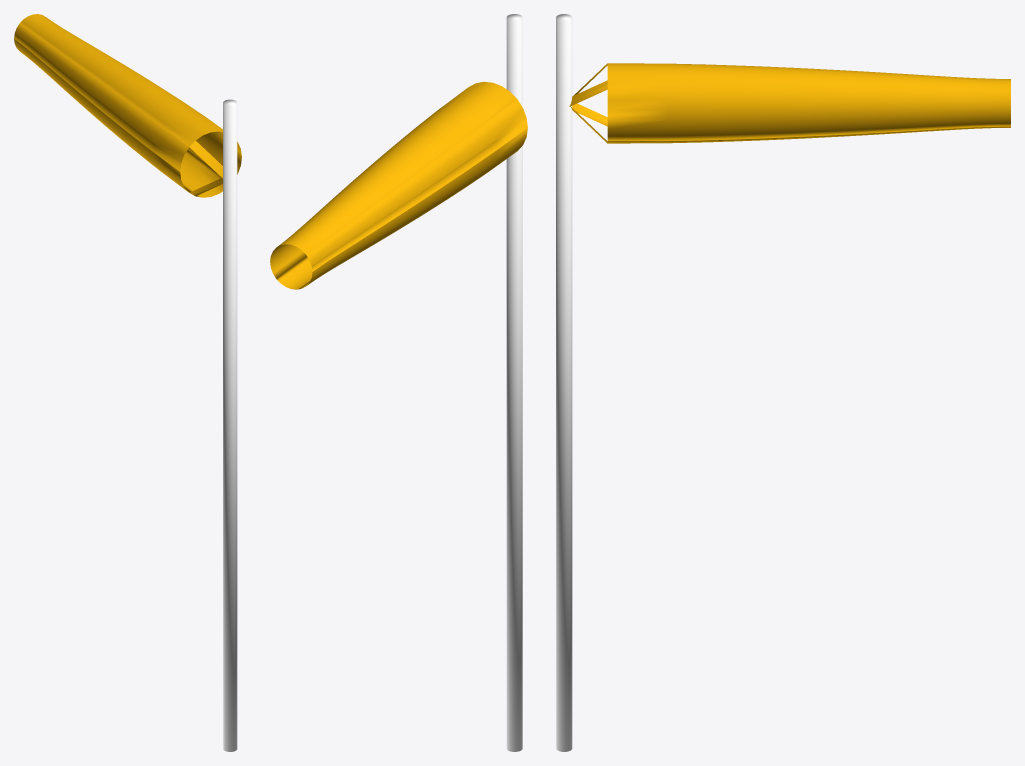
File: Windsock.glb
The picture shows the model from 3 angles, left to right: view 1: azimuth 30°, elevation 25°; view 2: azimuth 150°, elevation 25°; view 3: azimuth 270°, elevation 25°; orthographic projection. The views are drawn at different scales.
Visible parts, largest first — view 1: Sock, Connector; view 2: Sock, Connector; view 3: Sock, Connector.
Part boxes in pixels (x1,y1,x2,y2): Sock: (14, 14, 241, 197); Connector: (223, 99, 237, 751); Sock: (270, 81, 527, 289); Connector: (506, 14, 522, 751); Sock: (569, 63, 1010, 143); Connector: (556, 14, 572, 751).
Size of the model in its own units: 0.5001 by 5 by 2.82.
